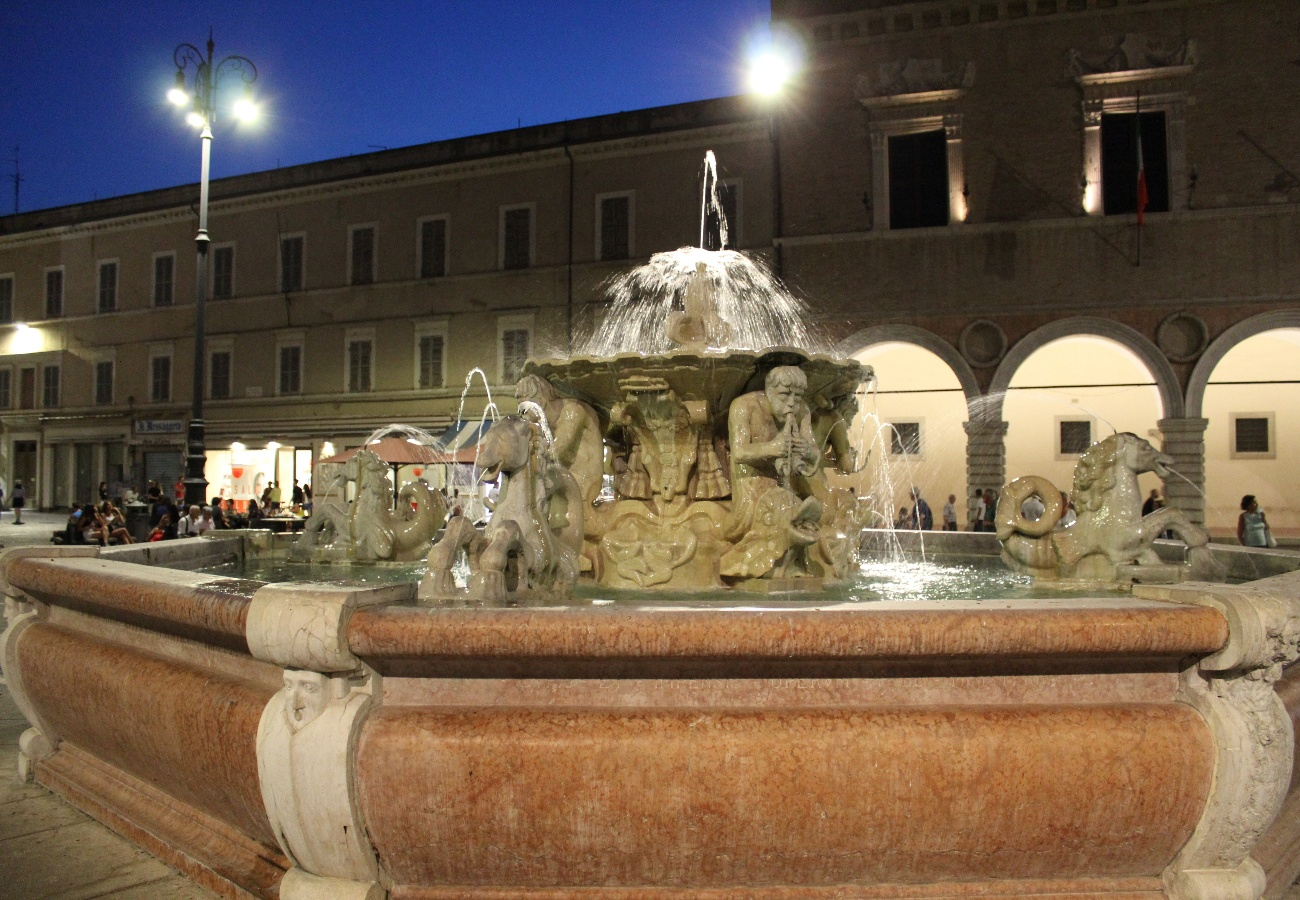Fontana Piazza del Popolo: (477, 345, 884, 606)
